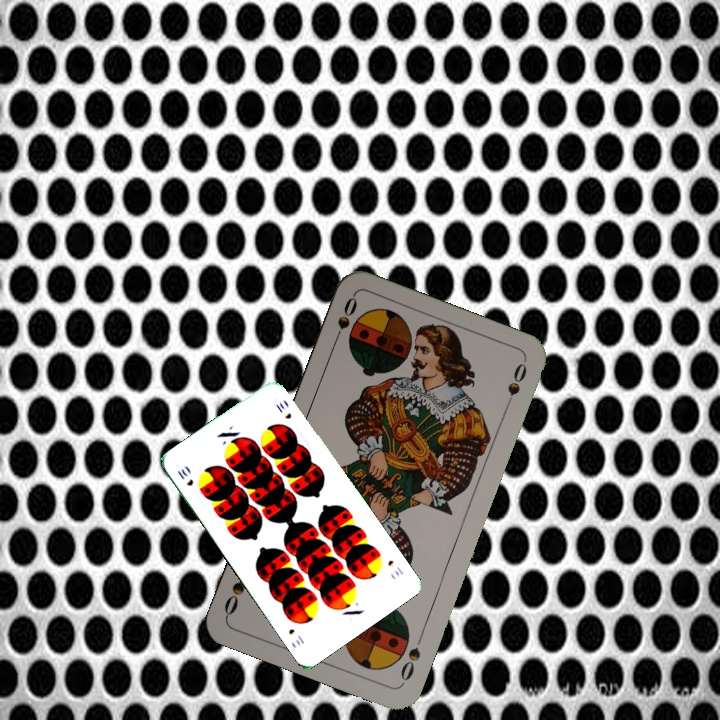S10: (173, 464, 196, 489), (384, 556, 406, 579)
SO: (328, 292, 360, 349), (396, 643, 423, 687)
